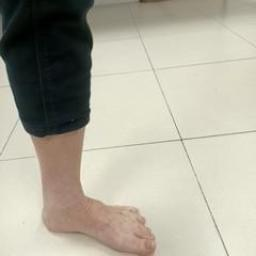Medial View -Left Foot-: (26, 175, 186, 255)
